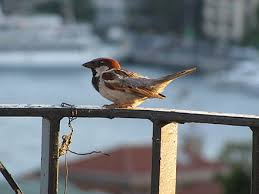hsparrow: (77, 51, 206, 112)
